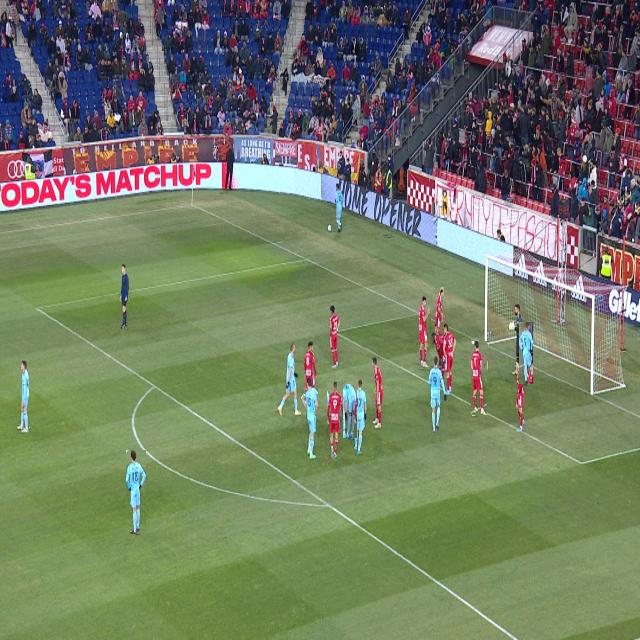goalkeeper: (509, 304, 523, 360), (512, 369, 518, 375)
player: (278, 342, 301, 416), (126, 450, 146, 534), (301, 379, 318, 459), (328, 382, 345, 458), (429, 356, 446, 432), (472, 342, 487, 415), (353, 379, 367, 454), (443, 323, 456, 395), (519, 322, 533, 384), (18, 360, 29, 433), (419, 297, 430, 368), (372, 357, 383, 428), (343, 384, 357, 438), (431, 333, 446, 382), (304, 342, 318, 394), (516, 359, 525, 432), (330, 305, 340, 369), (436, 288, 444, 339)
referee: (120, 265, 129, 329)
